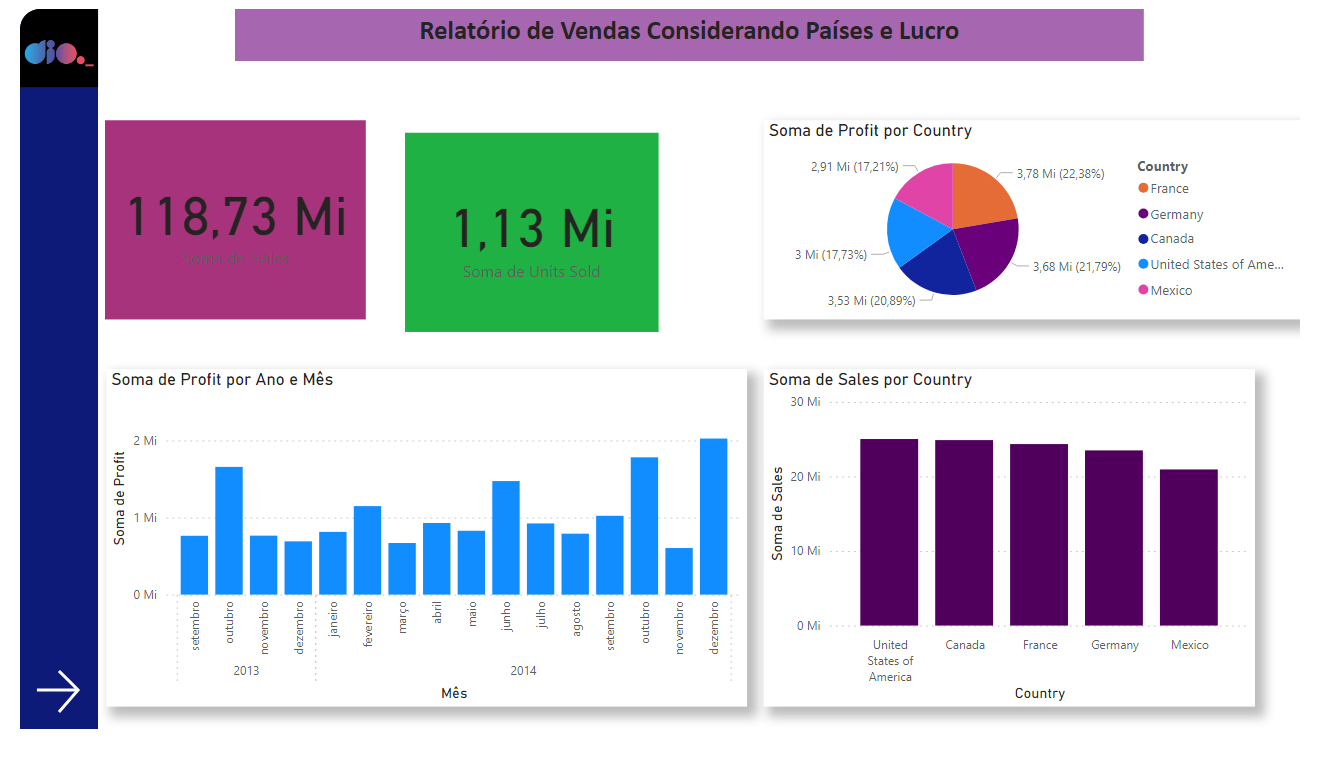

This screenshot's page, from the dashboard's own definition file:
{"tool":"powerbi","page":{"name":"Página 2","canvas":[1280,720],"ordinal":1},"visuals":[{"type":"textbox","box":[215.4,0,908.4,52.1],"z":0},{"type":"shape","box":[0,0,78.2,720],"z":500,"group":"g1"},{"type":"shape","box":[0,0.4,78.4,78.4],"z":750,"group":"g1"},{"type":"image","title":"Logo DIO","box":[0,0,78.2,88],"z":1000,"group":"g1"},{"type":"card","fields":{"Values":["Sum(financials. Sales)"]},"box":[85.1,111.1,260.7,199],"z":1000},{"type":"card","fields":{"Values":["Sum(financials.Units Sold)"]},"box":[385.6,123.5,253.9,199],"z":2000},{"type":"actionButton","title":"seta à direita ","box":[9.8,655.2,57.5,55],"z":2000,"group":"g1"},{"type":"pieChart","fields":{"Category":["financials.Country"],"Y":["Sum(financials.Profit)"]},"box":[743.7,111.1,536.5,199],"z":3000},{"type":"clusteredColumnChart","fields":{"Category":["financials.Date.Variation.Hierarquia de datas.Ano","financials.Date.Variation.Hierarquia de datas.Mês"],"Y":["Sum(financials.Profit)"]},"box":[85.6,360,640.5,337.6],"z":4000},{"type":"clusteredColumnChart","fields":{"Category":["financials.Country"],"Y":["Sum(financials. Sales)"]},"box":[743.7,359.5,491.3,337.6],"z":5000},{"type":"group","id":"g1","title":"Barra lateral","box":[0,0,78.4,720],"z":5001}]}

Visuals, with their boxes in screenshot pixels (x1, y1, x2, y2), scaled from the page's 1280x720 canvas onto the 1319x759 screenshot:
textbox: 222/0/1158/55
shape: 0/0/81/758
shape: 0/0/81/83
"Logo DIO" image: 0/0/81/93
card - Sum(financials. Sales): 88/117/356/327
card - Sum(financials.Units Sold): 397/130/659/340
"seta à direita " actionButton: 10/691/69/749
pieChart - financials.Country x Sum(financials.Profit): 766/117/1318/327
clusteredColumnChart - financials.Date.Variation.Hierarquia de datas.Ano x financials.Date.Variation.Hierarquia de datas.Mês: 88/380/748/735
clusteredColumnChart - financials.Country x Sum(financials. Sales): 766/379/1273/735
"Barra lateral" group: 0/0/81/758
